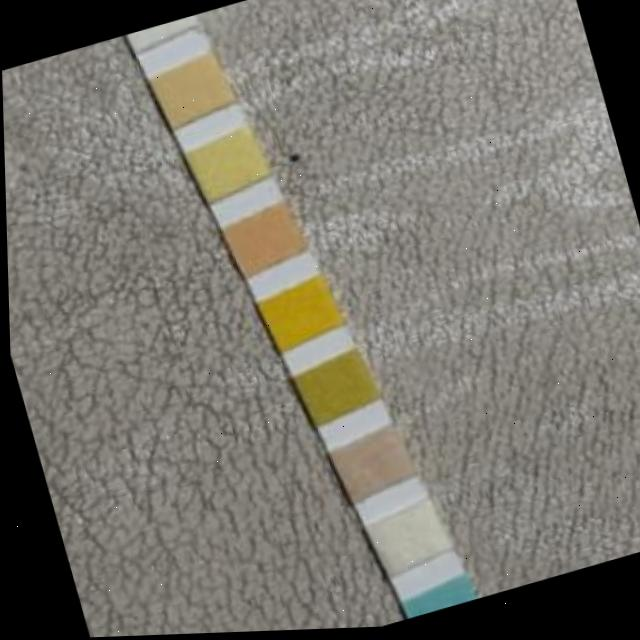Bilirubin: (369, 512, 440, 570)
Blood: (262, 287, 333, 345)
Glucose: (407, 589, 472, 620)
Ketone: (333, 437, 405, 495)
Nitrite: (131, 17, 191, 46)
Protein: (190, 137, 261, 197)
SpGravity: (296, 359, 368, 418)
Urobilinogen: (156, 61, 224, 121)
pH: (228, 211, 299, 270)
